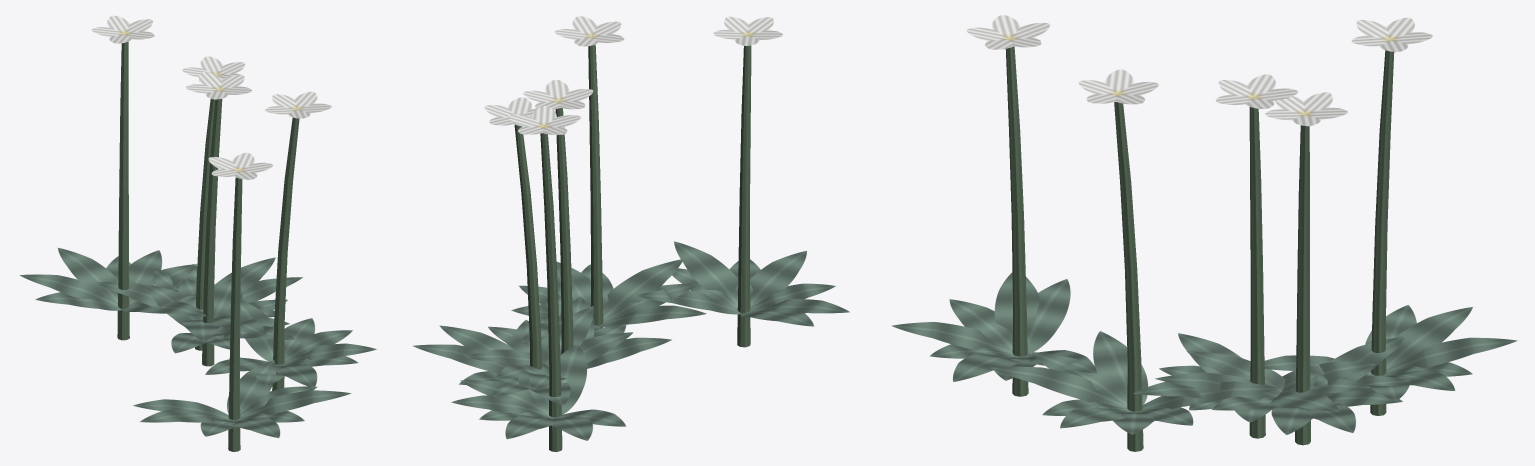
Rendered from frost_saxifrage_v01.glb.
3 renders of one model, left to right at view 1: azimuth 30°, elevation 25°; view 2: azimuth 150°, elevation 25°; view 3: azimuth 270°, elevation 25°, orthographic. The views are drawn at different scales.
Visible parts, largest first — view 1: frost_saxifrage_v01; view 2: frost_saxifrage_v01; view 3: frost_saxifrage_v01.
Part boxes in pixels (x1=…): frost_saxifrage_v01: x1=19, y1=15, x2=376, y2=451; frost_saxifrage_v01: x1=412, y1=16, x2=849, y2=451; frost_saxifrage_v01: x1=891, y1=15, x2=1517, y2=451.
Bounding box in the file's own units: 0.097 × 0.1019 × 0.1523.
3 materials, 3 textured.
